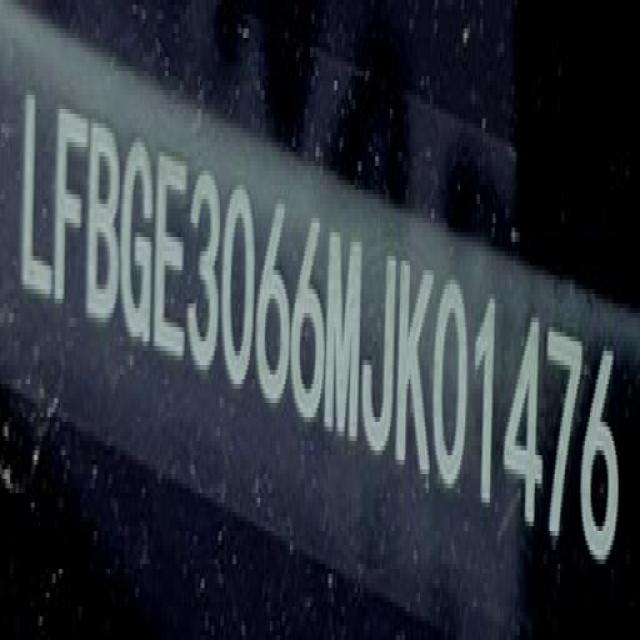0: (431, 273, 470, 506), (221, 178, 256, 398)
1: (472, 290, 498, 524)
3: (186, 162, 224, 384)
4: (503, 309, 545, 540)
6: (582, 337, 627, 576), (252, 195, 292, 412), (293, 215, 330, 431)
7: (543, 320, 584, 559)
B: (86, 123, 122, 334)
E: (154, 147, 188, 364)
F: (52, 101, 88, 319)
G: (118, 132, 156, 350)
J: (363, 243, 398, 470)
K: (395, 254, 433, 488)
L: (16, 87, 56, 306)
M: (325, 228, 366, 452)
